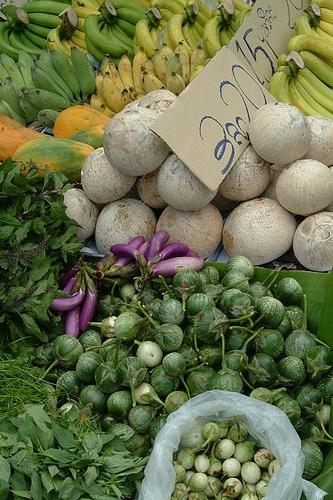banana: (84, 21, 134, 67), (32, 59, 80, 104), (166, 3, 199, 64), (84, 13, 128, 58), (294, 78, 333, 120), (30, 66, 70, 106), (50, 50, 82, 100), (296, 74, 333, 114), (288, 78, 324, 118), (20, 86, 72, 112), (70, 46, 95, 100), (287, 34, 332, 63), (298, 67, 333, 102), (299, 51, 332, 87), (0, 52, 26, 96), (100, 53, 126, 92), (203, 16, 227, 58), (3, 76, 26, 119), (8, 30, 42, 58), (109, 24, 134, 59), (47, 25, 71, 61), (102, 72, 122, 114), (267, 72, 293, 104), (135, 18, 156, 56), (0, 98, 26, 128), (0, 21, 19, 62), (19, 49, 38, 89), (21, 0, 71, 15), (174, 42, 190, 88), (118, 55, 135, 98), (133, 45, 148, 91), (116, 7, 149, 26), (153, 49, 169, 86), (18, 94, 42, 118), (157, 19, 174, 52), (22, 28, 47, 50), (110, 26, 134, 48), (28, 13, 63, 28), (294, 12, 314, 37), (112, 1, 150, 14), (166, 54, 182, 84), (190, 44, 206, 74), (114, 88, 132, 114), (37, 109, 60, 129), (312, 21, 332, 44), (166, 72, 185, 96), (154, 0, 186, 14), (25, 23, 50, 40), (115, 18, 136, 38), (20, 31, 42, 50), (144, 55, 160, 81), (182, 22, 195, 50), (68, 38, 88, 56), (72, 6, 101, 18), (310, 27, 330, 44), (160, 44, 174, 66), (39, 45, 53, 67), (190, 64, 206, 83), (70, 34, 88, 50), (196, 0, 211, 19), (96, 72, 106, 100), (98, 104, 118, 118), (231, 0, 254, 11), (158, 8, 176, 22), (191, 19, 204, 38), (0, 62, 10, 86), (140, 66, 150, 90), (150, 26, 160, 50), (89, 92, 103, 109), (320, 7, 333, 25), (319, 20, 333, 36), (220, 24, 230, 46), (197, 12, 210, 28), (192, 24, 202, 44), (312, 1, 332, 11), (61, 34, 72, 51), (231, 6, 242, 22), (16, 30, 26, 47), (130, 89, 143, 101), (74, 28, 86, 41), (4, 27, 12, 46), (235, 12, 242, 30), (77, 18, 86, 32), (89, 0, 101, 8), (228, 26, 234, 41), (101, 24, 108, 36), (202, 58, 212, 66), (230, 20, 236, 31), (155, 24, 160, 34), (96, 0, 104, 5)
eggplant: (49, 275, 86, 311), (78, 270, 98, 332), (65, 271, 83, 339), (148, 256, 204, 276), (145, 229, 170, 264), (115, 236, 144, 266), (156, 241, 190, 261), (110, 244, 145, 262), (58, 268, 80, 292), (62, 272, 80, 295), (181, 248, 200, 258)
mushroom: (222, 198, 296, 266), (102, 107, 170, 176), (250, 100, 313, 164), (156, 204, 224, 258), (95, 198, 156, 255), (156, 154, 218, 210), (80, 147, 138, 205), (276, 159, 332, 215), (218, 144, 271, 200), (292, 210, 332, 271), (63, 188, 100, 242), (300, 115, 333, 167), (136, 164, 169, 209), (258, 164, 288, 201), (137, 90, 177, 112), (326, 166, 332, 212), (122, 99, 141, 110)
